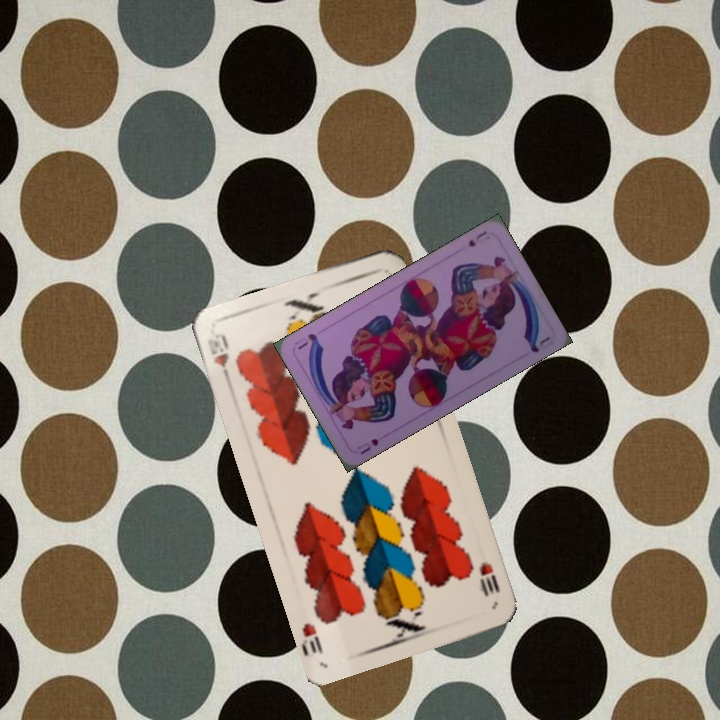H10: (203, 330, 234, 386), (475, 557, 503, 599)
SU: (353, 434, 381, 457), (464, 226, 490, 249)
